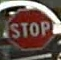stop: (4, 7, 55, 50)
